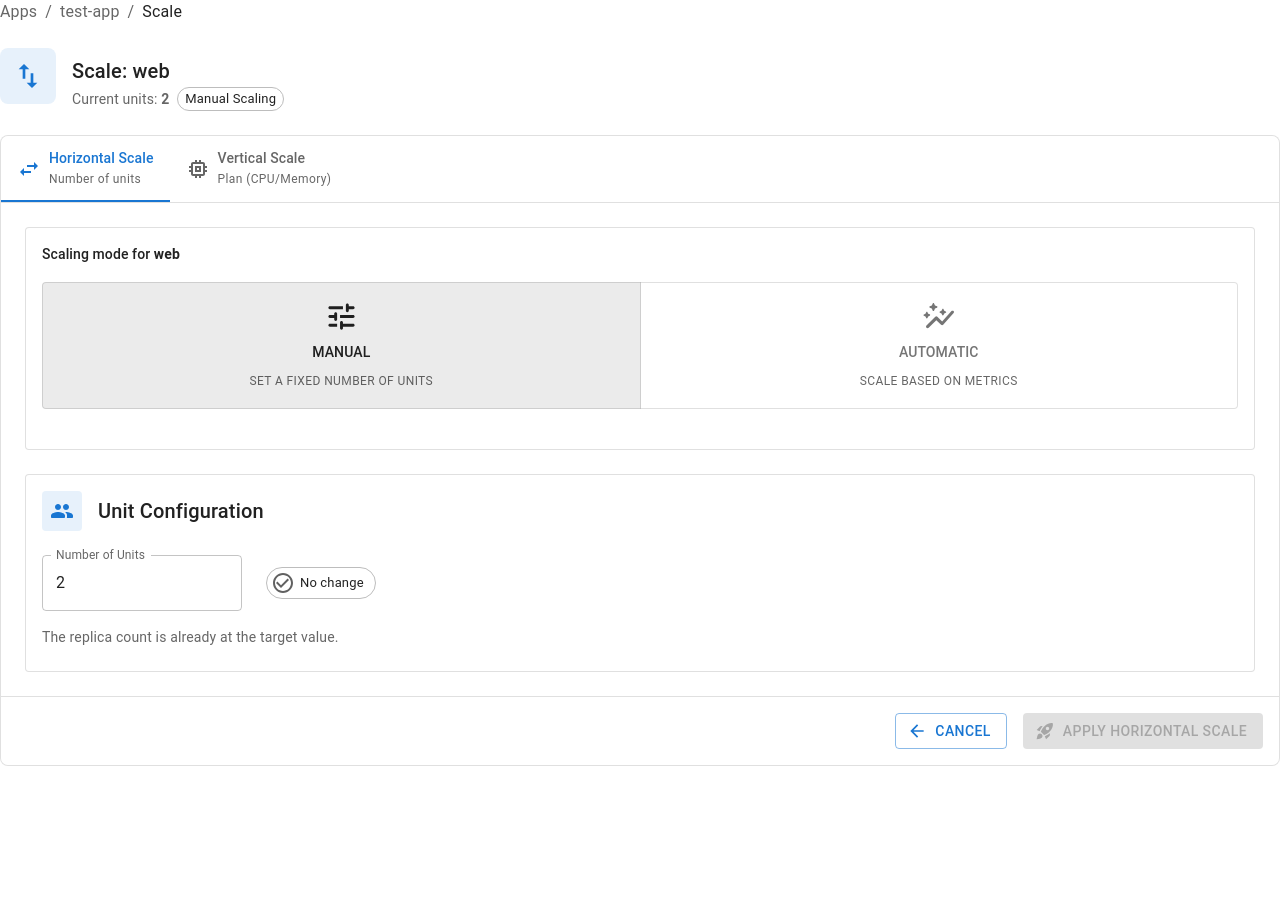
it: AppScaleView › shows autoscale configuration fields when automatic mode selected
This screenshot has width=1280, height=900.
// Switch to automatic
Click the button "Automatic Scale based on metrics".
click(939, 345)  # box [640,282,1238,409]
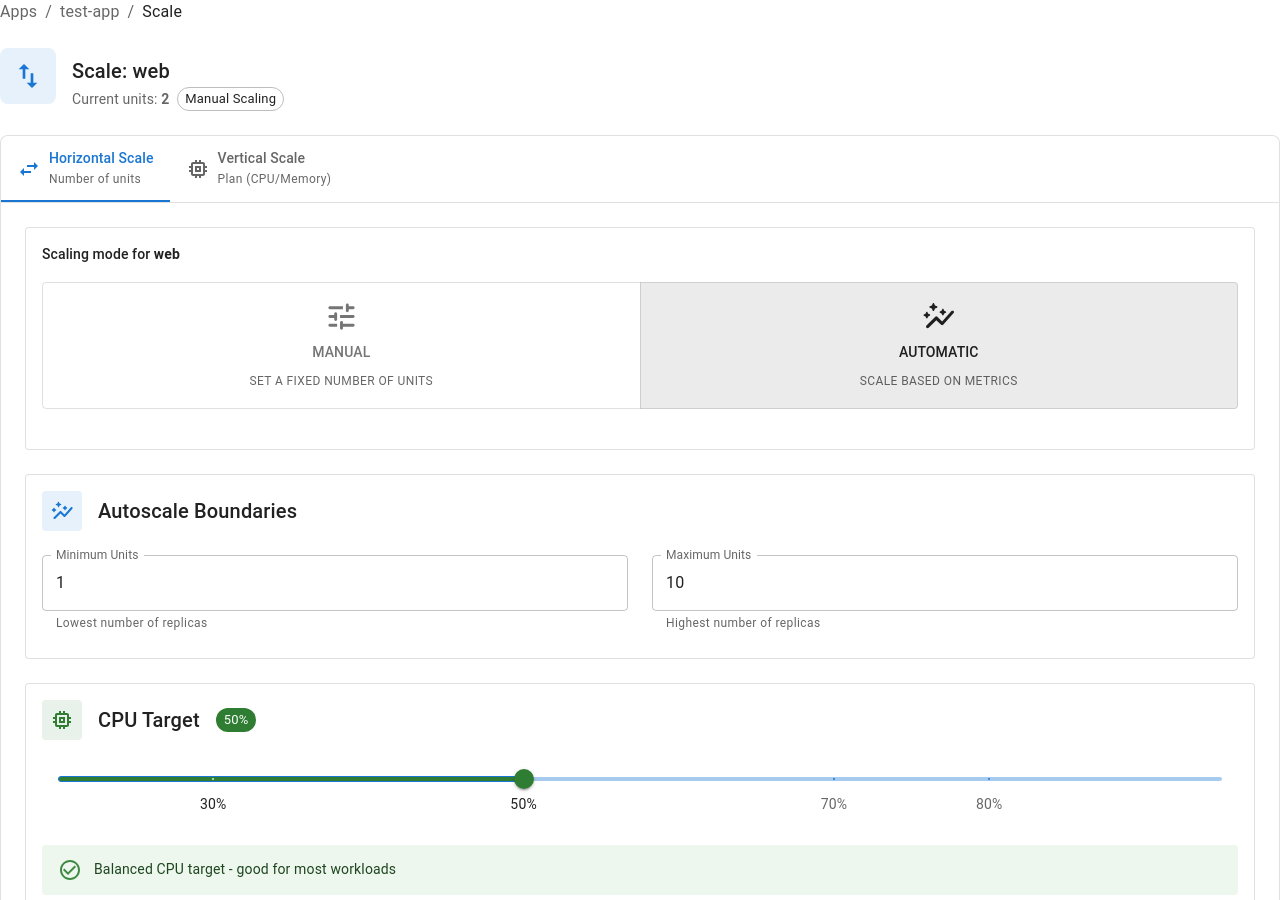
Expected: the number field labelled "Minimum Units" is shown, [42,555,628,611]
Expected: the number field labelled "Maximum Units" is shown, [652,555,1238,611]
Expected: the heading "CPU Target" is shown, [98,704,200,736]
